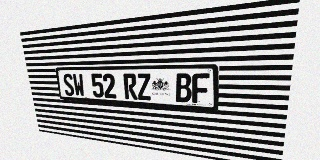2: (102, 73, 116, 98)
5: (91, 74, 104, 98)
B: (175, 73, 192, 103)
F: (192, 73, 210, 104)
R: (123, 73, 138, 100)
S: (62, 74, 75, 96)
W: (72, 74, 85, 97)
Z: (136, 73, 152, 100)
